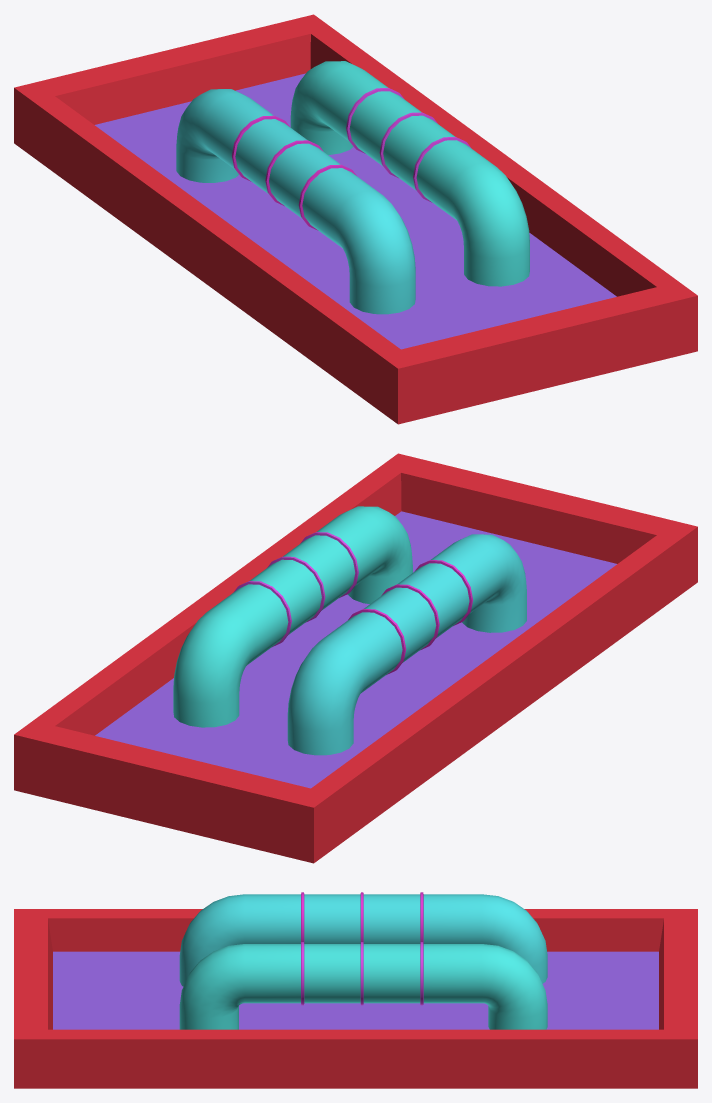
The model's file is TrimTopUVID.fbx.
3 renders of one model, top to bottom at view 1: azimuth 30°, elevation 25°; view 2: azimuth 150°, elevation 25°; view 3: azimuth 270°, elevation 25°, orthographic. The views are drawn at different scales.
Parts seen in each view (by area): view 1: Wall, Pipe.001, Pipe; view 2: Wall, Pipe.001, Pipe; view 3: Wall, Pipe, Pipe.001.
Part boxes in pixels (<box>): Wall: <box>14,14,697,424</box>; Pipe.001: <box>176,89,415,314</box>; Pipe: <box>290,61,529,286</box>; Wall: <box>14,453,697,863</box>; Pipe.001: <box>287,534,526,755</box>; Pipe: <box>173,506,412,727</box>; Wall: <box>14,909,697,1088</box>; Pipe: <box>179,942,547,1029</box>; Pipe.001: <box>179,892,547,986</box>.
Size of the model in its own units: 29.72 by 11.1 by 65.94.
